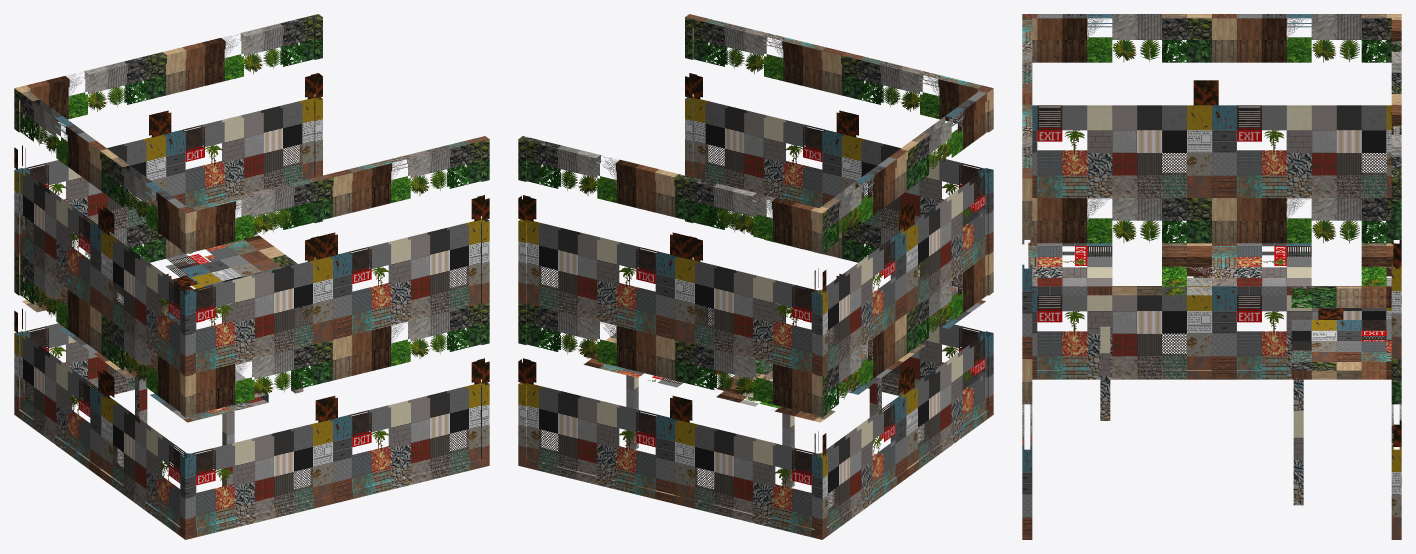
Rendered from Cubicle.fbx.
The picture shows the model from 3 angles, left to right: view 1: azimuth 30°, elevation 25°; view 2: azimuth 150°, elevation 25°; view 3: azimuth 270°, elevation 25°; orthographic projection. The views are drawn at different scales.
Parts seen in each view (by area): view 1: Cubicle; view 2: Cubicle; view 3: Cubicle.
Boxes of the visible parts, x1,y1,x2,y2 form: Cubicle: (14,14,489,539); Cubicle: (518,14,993,539); Cubicle: (1022,14,1401,539).
Size of the model in its own units: 1.95 by 2 by 1.9.
